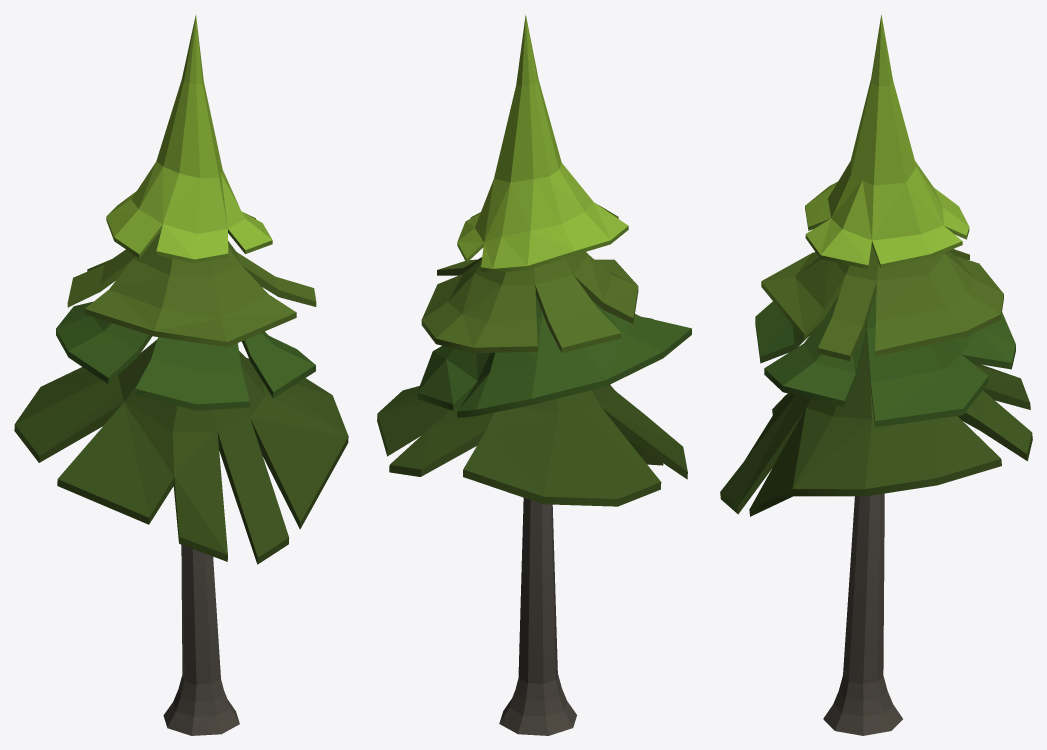
File: ZLP_Plant_K_8.FBX
The picture shows the model from 3 angles, left to right: view 1: azimuth 30°, elevation 25°; view 2: azimuth 150°, elevation 25°; view 3: azimuth 270°, elevation 25°; orthographic projection.
Parts seen in each view (by area): view 1: ZLP_Plant_K_8; view 2: ZLP_Plant_K_8; view 3: ZLP_Plant_K_8.
Part boxes in pixels (left/top/right/bottom): ZLP_Plant_K_8: left=14, top=15, right=348, bottom=735; ZLP_Plant_K_8: left=377, top=14, right=691, bottom=735; ZLP_Plant_K_8: left=720, top=15, right=1032, bottom=735.
Bounding box in the file's own units: 190 × 458 × 184.
